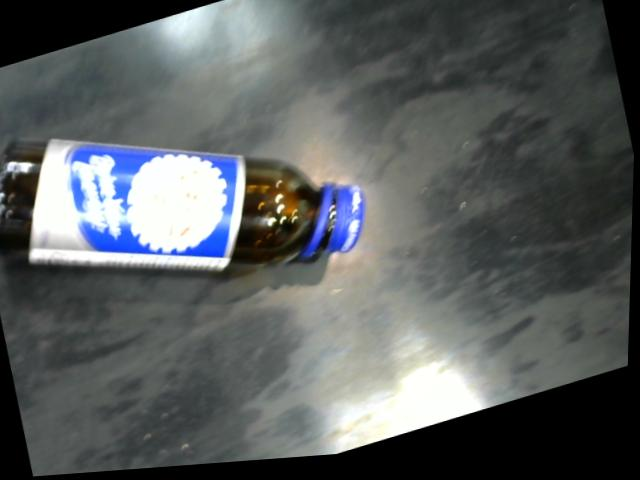glass: (0, 134, 366, 277)
